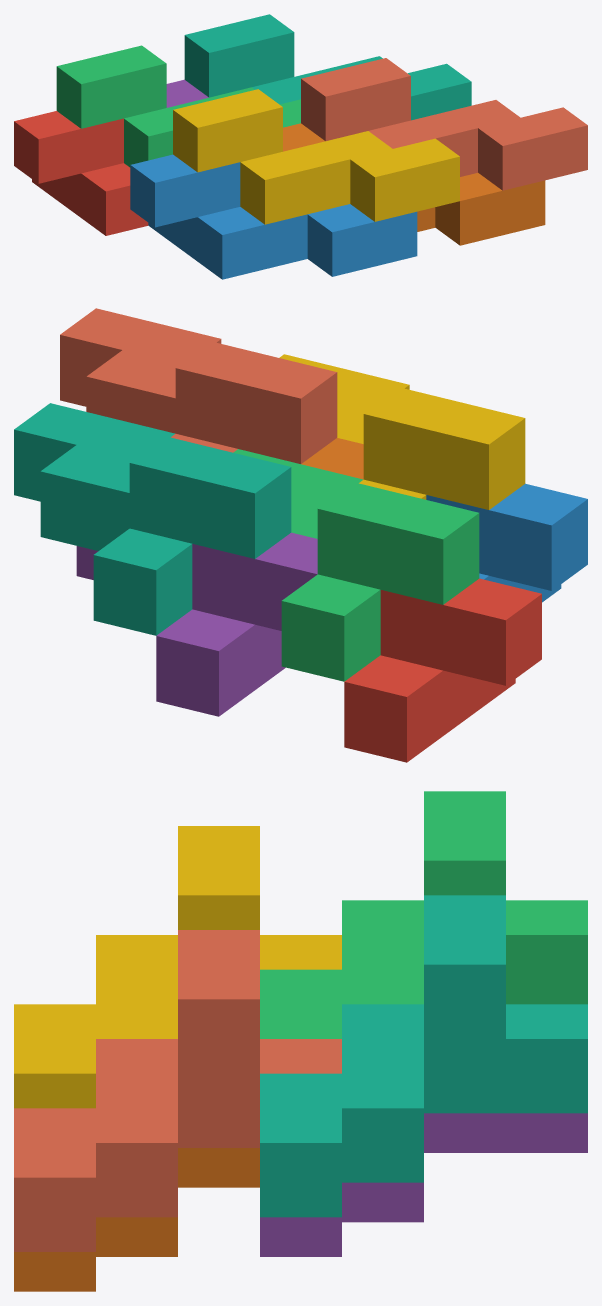
The model's file is tiling.obj.
The picture shows the model from 3 angles, top to bottom: view 1: azimuth 30°, elevation 25°; view 2: azimuth 150°, elevation 25°; view 3: azimuth 270°, elevation 25°; orthographic projection. The views are drawn at different scales.
Parts seen in each view (by area): view 1: copy_1_domain_4, copy_1_domain_2, copy_1_domain_8, copy_1_domain_7, copy_1_domain_1, copy_1_domain_3, copy_1_domain_6, copy_1_domain_5; view 2: copy_1_domain_7, copy_1_domain_8, copy_1_domain_3, copy_1_domain_1, copy_1_domain_5, copy_1_domain_4, copy_1_domain_2, copy_1_domain_6; view 3: copy_1_domain_7, copy_1_domain_8, copy_1_domain_3, copy_1_domain_4, copy_1_domain_5, copy_1_domain_6.
Part boxes in pixels (x1=…): copy_1_domain_4: x1=173, y1=89, x2=459, y2=224; copy_1_domain_2: x1=130, y1=154, x2=417, y2=279; copy_1_domain_8: x1=301, y1=58, x2=587, y2=190; copy_1_domain_7: x1=184, y1=14, x2=471, y2=120; copy_1_domain_1: x1=14, y1=111, x2=148, y2=235; copy_1_domain_3: x1=56, y1=45, x2=300, y2=167; copy_1_domain_6: x1=283, y1=123, x2=545, y2=245; copy_1_domain_5: x1=166, y1=79, x2=208, y2=107; copy_1_domain_7: x1=14, y1=403, x2=291, y2=635; copy_1_domain_8: x1=60, y1=308, x2=337, y2=463; copy_1_domain_3: x1=233, y1=449, x2=479, y2=681; copy_1_domain_1: x1=344, y1=578, x2=541, y2=762; copy_1_domain_5: x1=76, y1=532, x2=317, y2=716; copy_1_domain_4: x1=279, y1=354, x2=525, y2=509; copy_1_domain_2: x1=426, y1=483, x2=587, y2=602; copy_1_domain_6: x1=301, y1=438, x2=363, y2=479; copy_1_domain_7: x1=260, y1=895, x2=587, y2=1217; copy_1_domain_8: x1=14, y1=930, x2=341, y2=1251; copy_1_domain_3: x1=260, y1=791, x2=587, y2=1038; copy_1_domain_4: x1=14, y1=826, x2=341, y2=1108; copy_1_domain_5: x1=260, y1=1113, x2=587, y2=1256; copy_1_domain_6: x1=14, y1=1148, x2=259, y2=1291.
Size of the model in its own units: 10 by 3 by 7.
